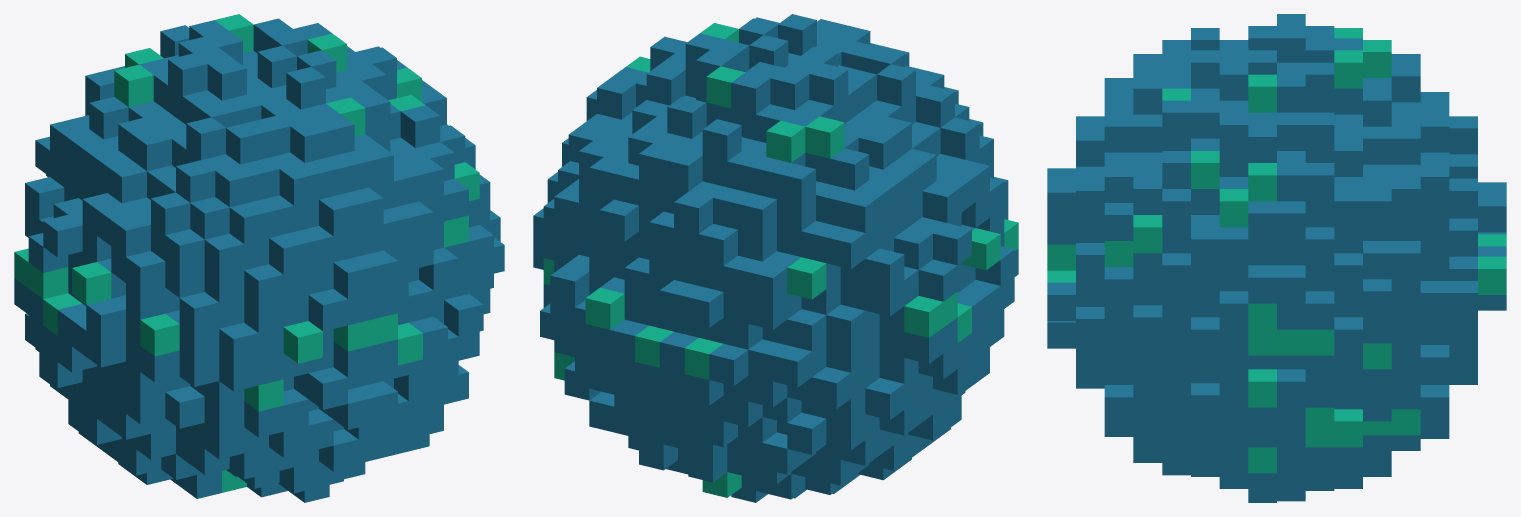
The model's file is planeta-16c.obj.
3 renders of one model, left to right at view 1: azimuth 30°, elevation 25°; view 2: azimuth 150°, elevation 25°; view 3: azimuth 270°, elevation 25°, orthographic.
Size of the model in its own units: 1.6 by 1.6 by 1.6.
1 material, 1 textured.
